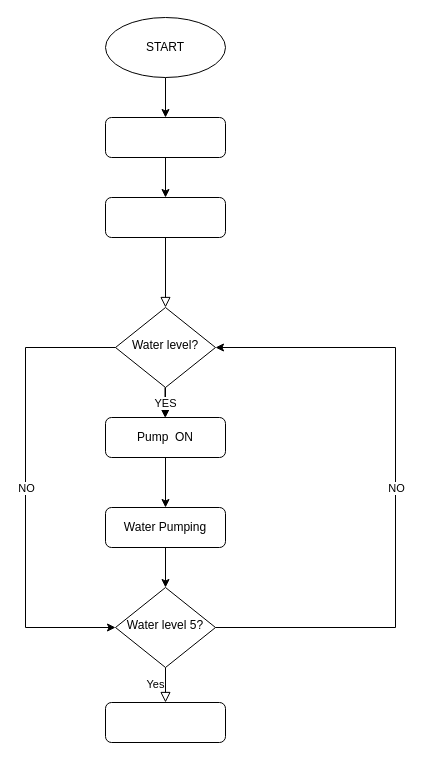
Some shapes in this 421 by 760 pixel diagram are drawn without their labels. The shapes that lost their labels are listed below. From the top down, each one's centre as x and y in pixels, then its label:
pixel 165 137: INITIATE
pixel 165 217: Calculate value from sensor
pixel 165 722: Motor OFF
